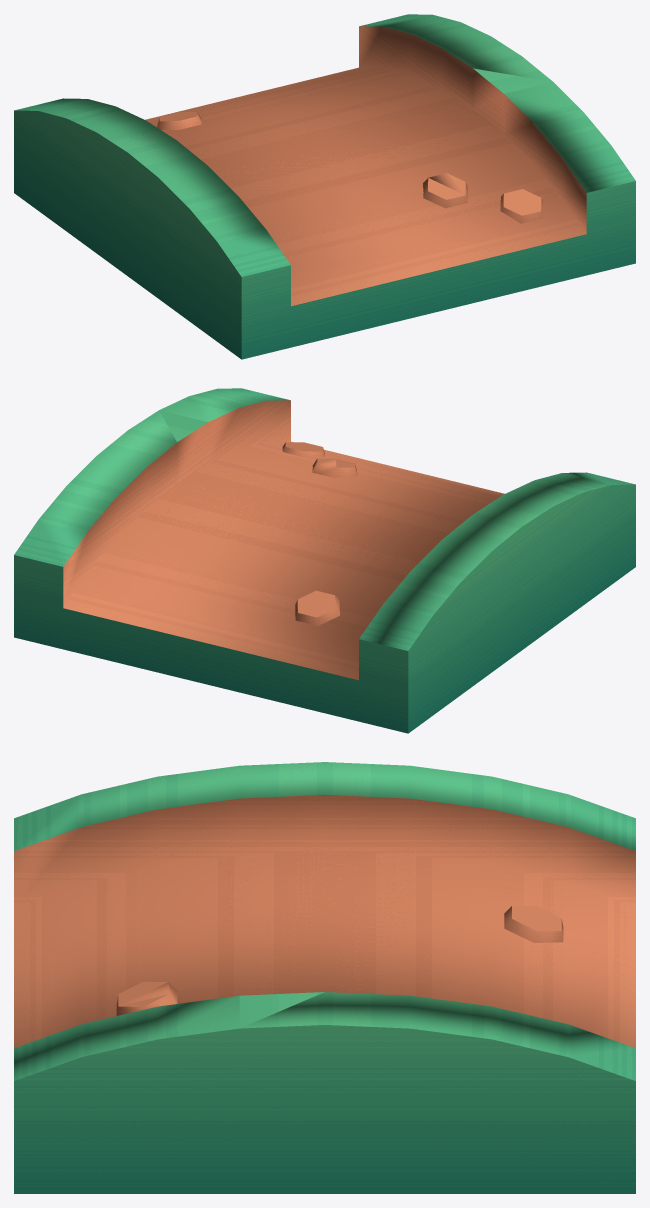
The model's file is tile-bump.glb.
3 renders of one model, top to bottom at view 1: azimuth 30°, elevation 25°; view 2: azimuth 150°, elevation 25°; view 3: azimuth 270°, elevation 25°, orthographic. The views are drawn at different scales.
Parts seen in each view (by area): view 1: tile-bump; view 2: tile-bump; view 3: tile-bump.
Part boxes in pixels (x1,y1,x2,y2): tile-bump: (14,14,635,359); tile-bump: (14,388,635,733); tile-bump: (14,762,635,1193).
Bounding box in the file's own units: 1 × 0.3 × 1.
Materials: 1 (1 with a texture image).
